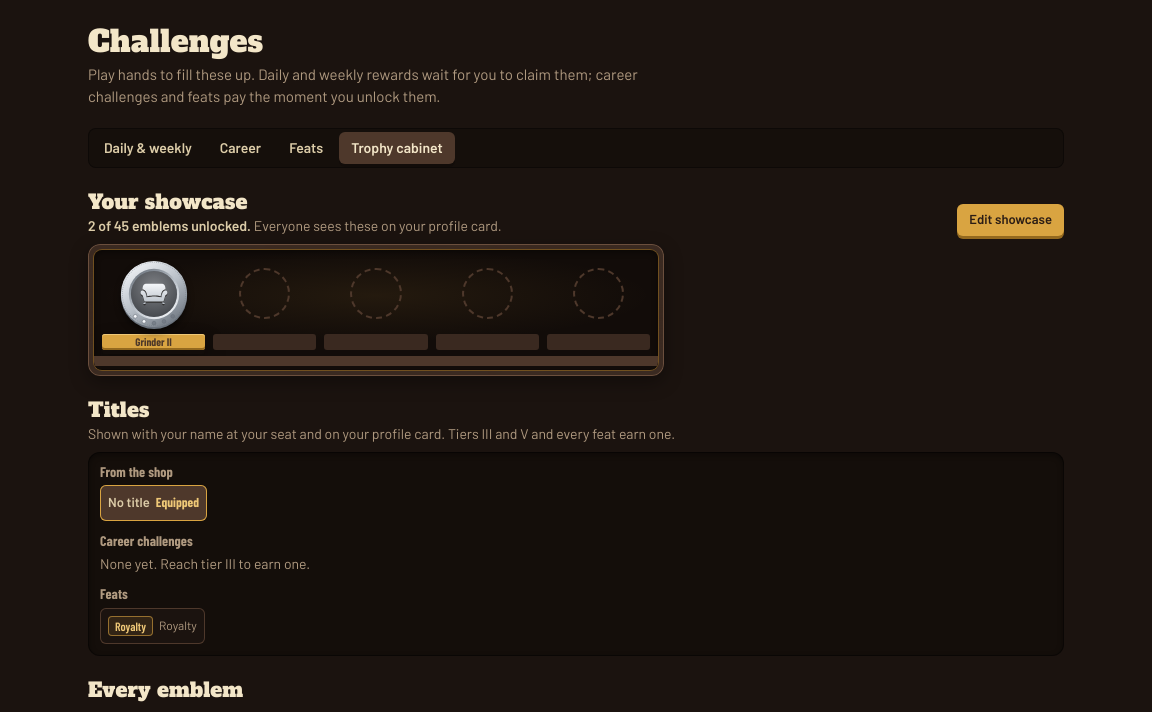
Scenario: ChallengesScreen keeps achievements fresh › Clear then save empties the showcase and the shelf shows the automatic pick
Click the button "Edit showcase": (1011,220) x1=957 y1=204 x2=1064 y2=236
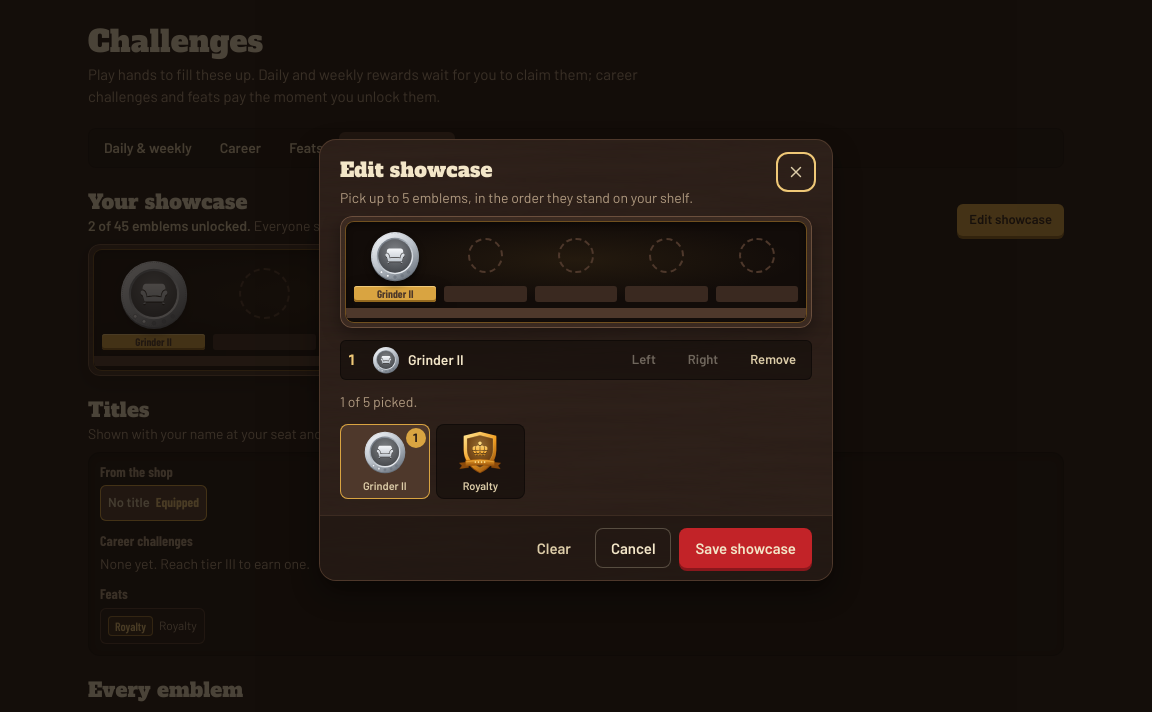
Click the button "Clear": (554,548) x1=521 y1=528 x2=587 y2=568
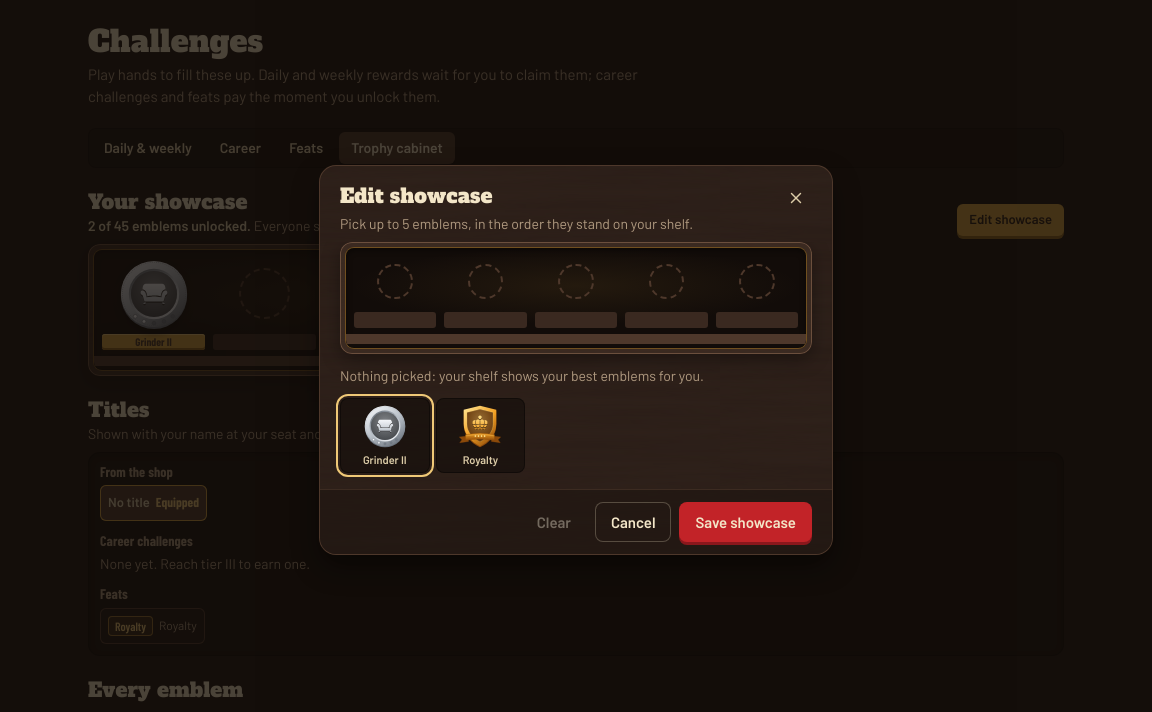
Click the button "Save showcase": (746,522) x1=680 y1=502 x2=812 y2=542
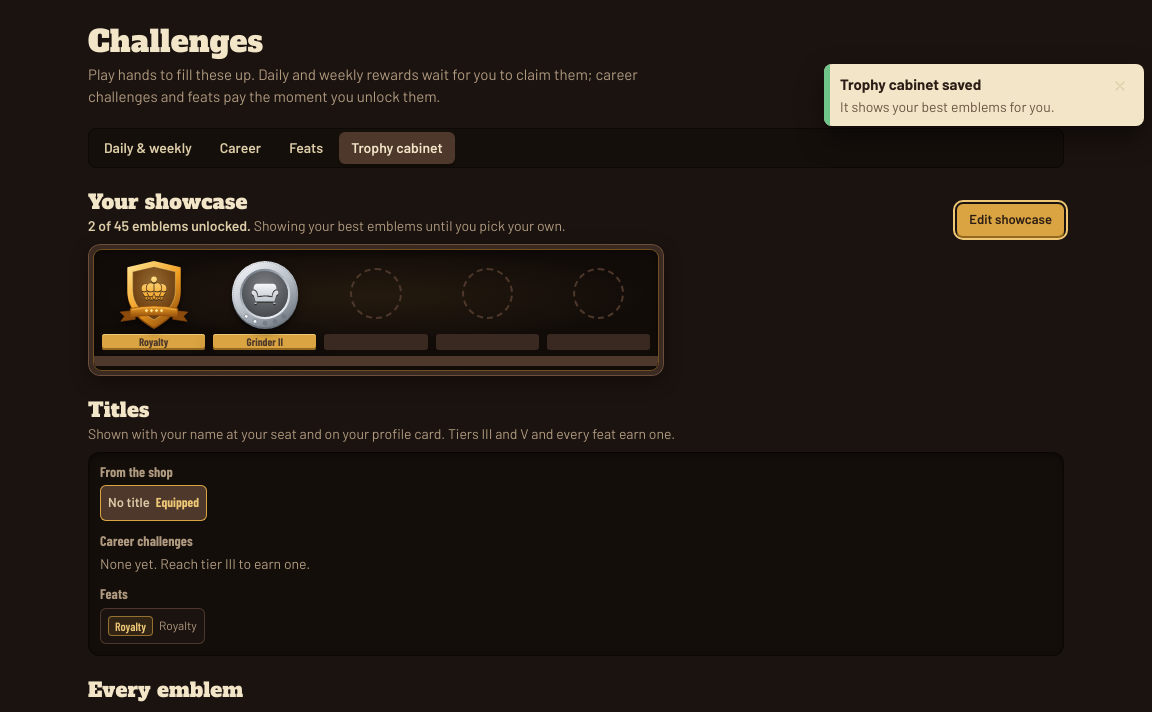
Expected: the text "It shows your best emblems for you." is shown, x1=840 y1=98 x2=1055 y2=115
Expected: the text "Showing your best emblems until you pick your own" is shown, x1=254 y1=216 x2=566 y2=234
